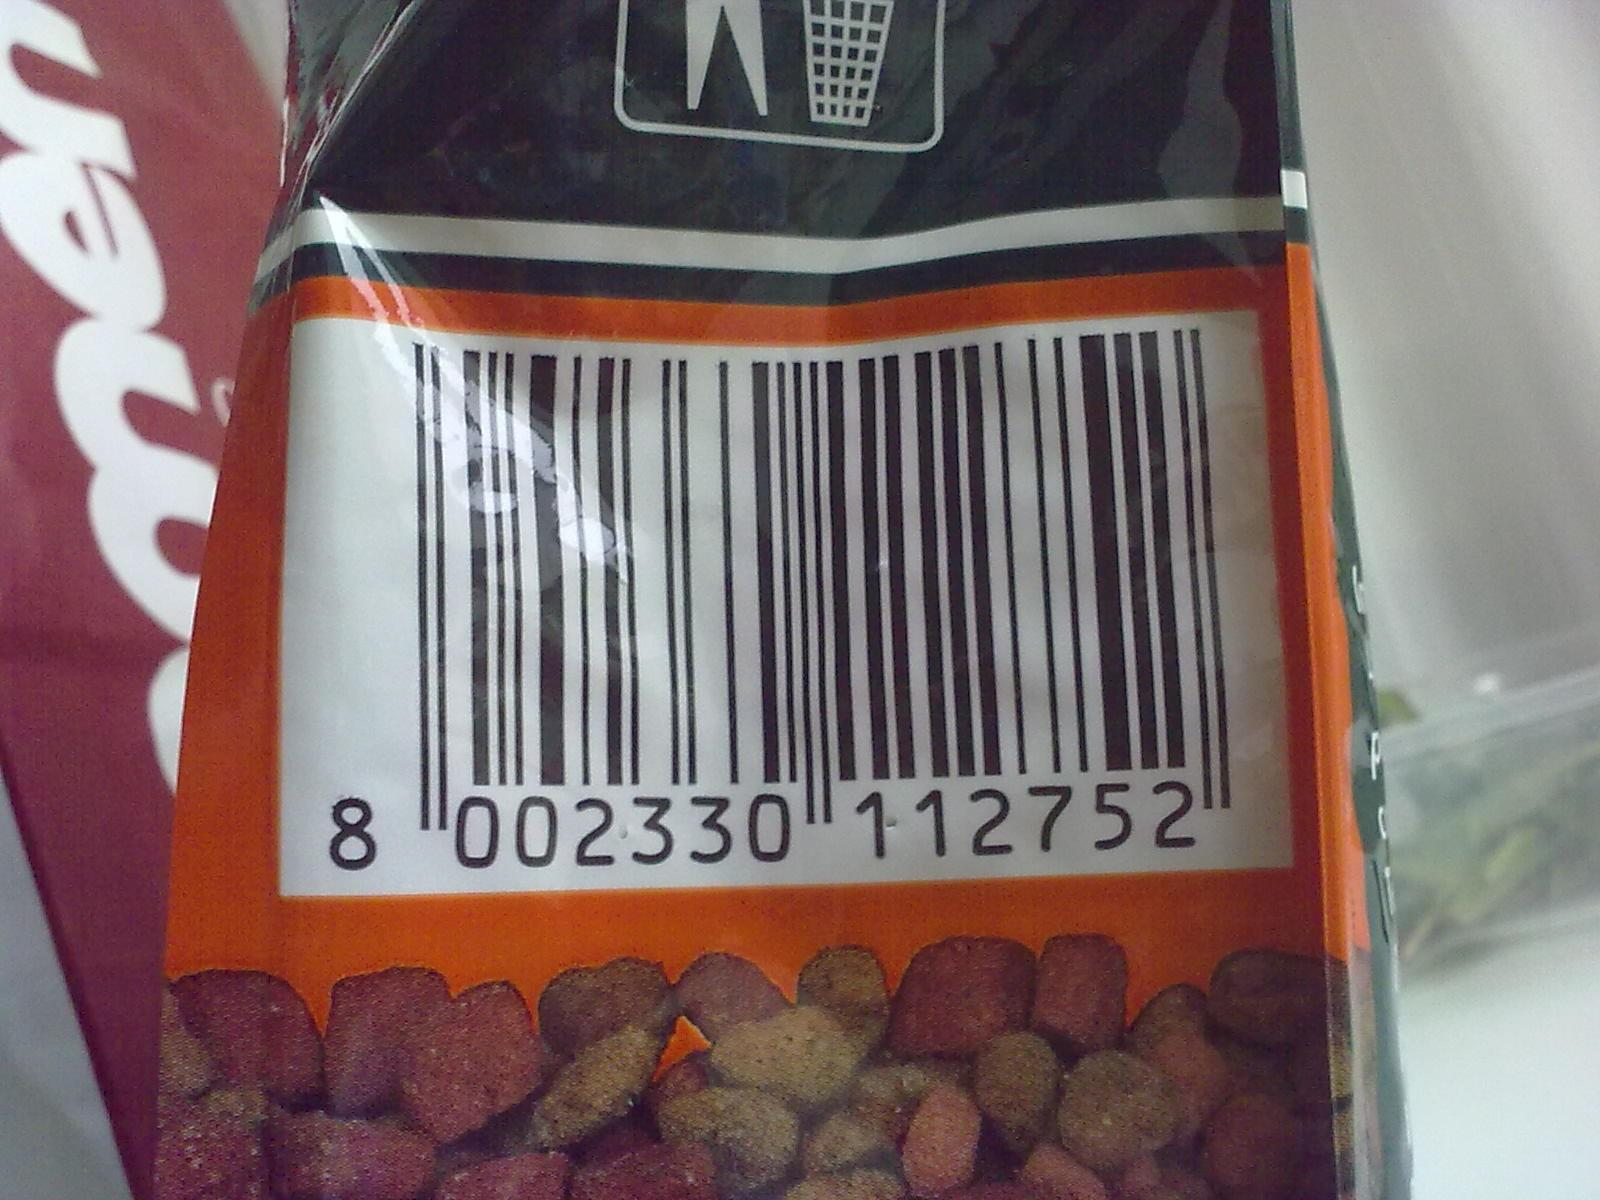Barcode: (275, 313, 1301, 890)
